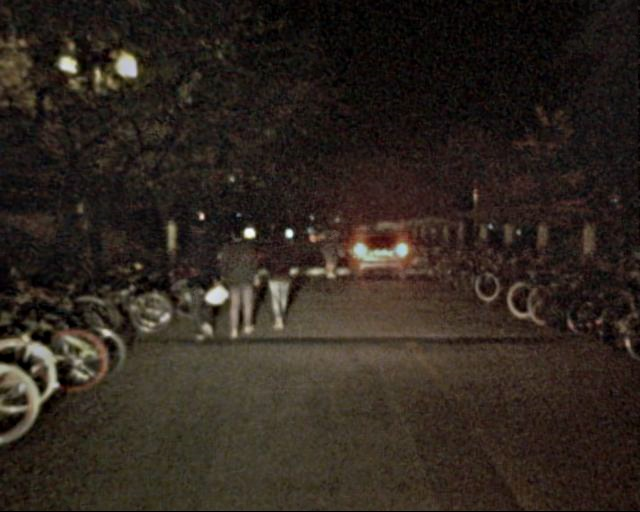person: (181, 210, 222, 338), (261, 216, 297, 332), (228, 229, 262, 337), (319, 226, 344, 277)
